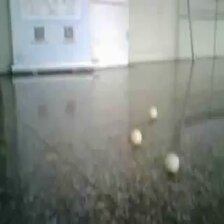tennis: (172, 94, 190, 120), (110, 70, 124, 86), (48, 58, 60, 75), (126, 54, 135, 67)
